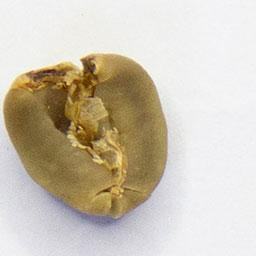defect: (1, 51, 170, 221)
